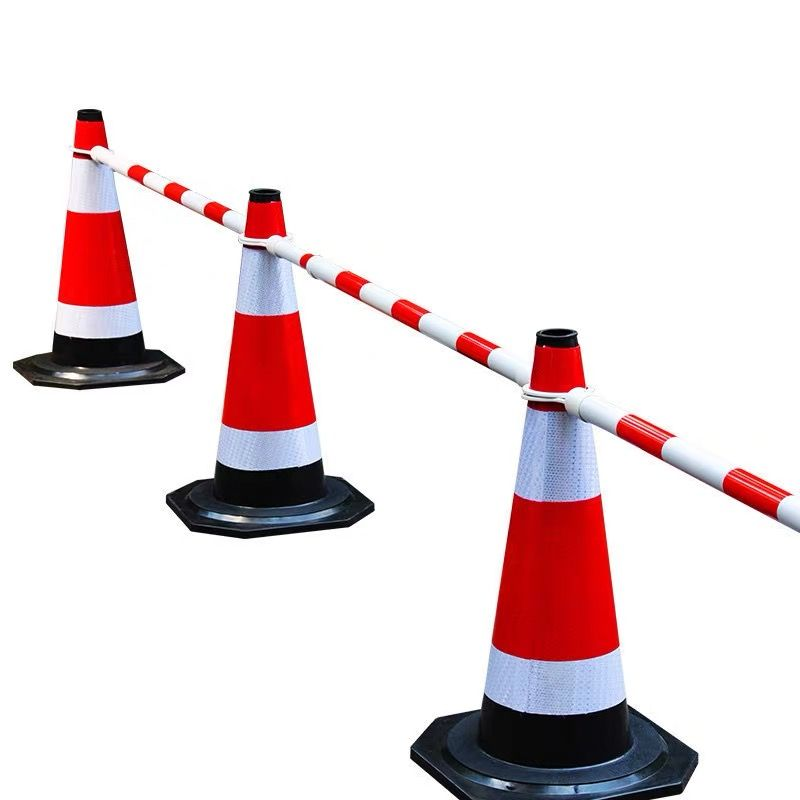traffic_cone: (384, 287, 715, 800), (150, 156, 364, 563), (7, 70, 188, 412)
